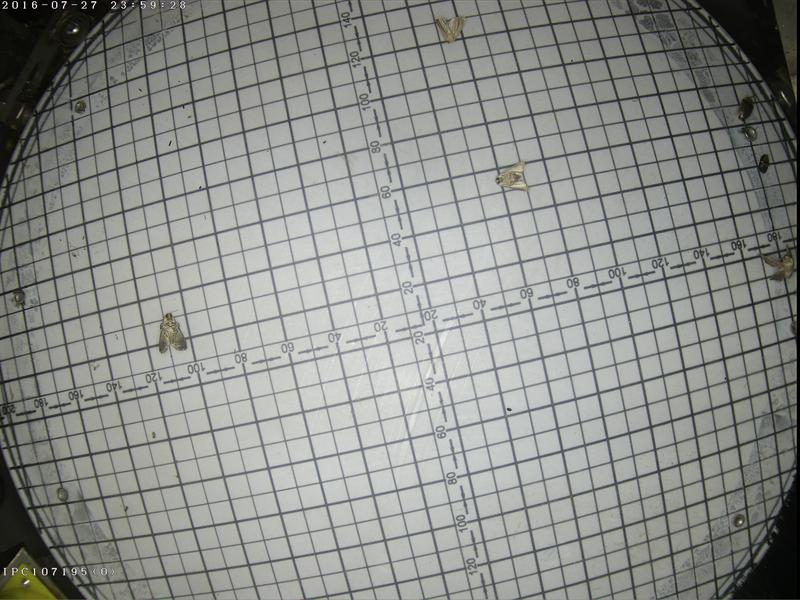Stem borer: (494, 161, 527, 191), (434, 11, 464, 42)
